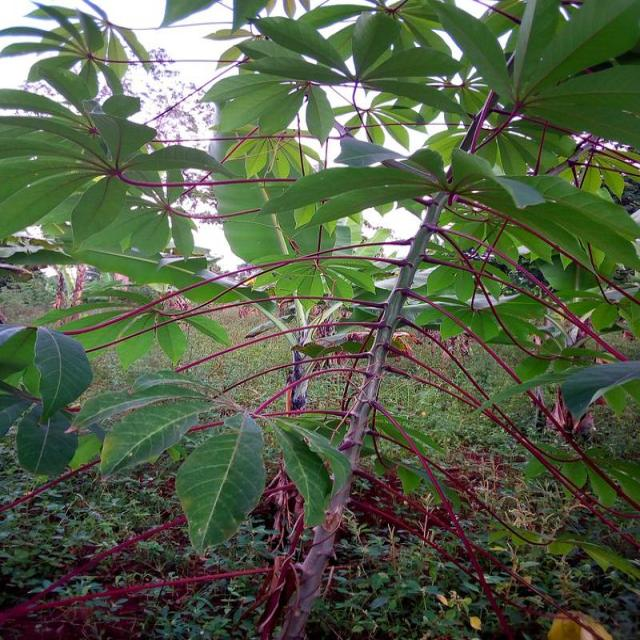cassava leaf: (174, 410, 266, 556), (270, 415, 351, 529)
